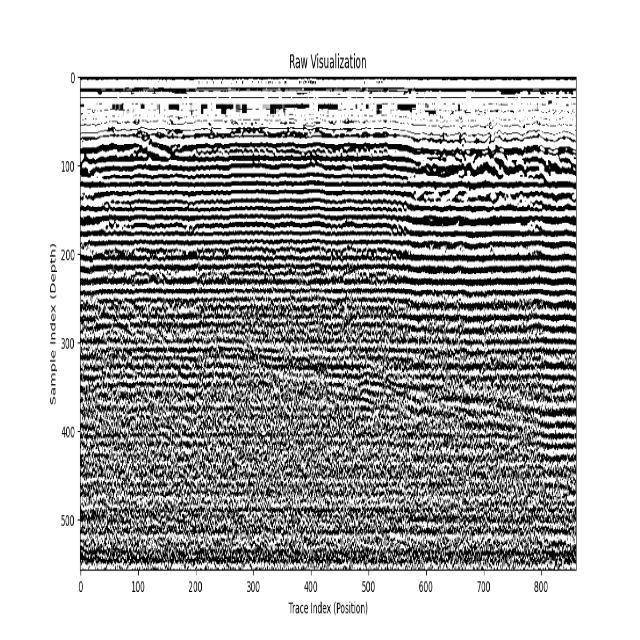anomaly: (110, 302, 212, 404)
